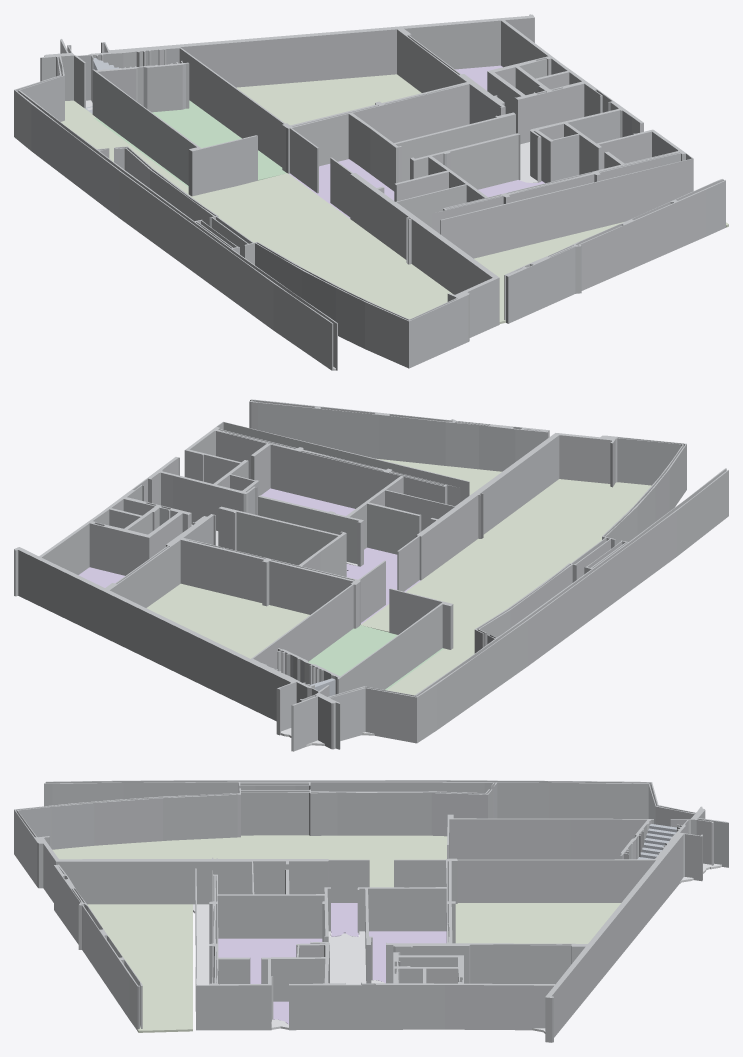
The model's file is BlocoB.glb.
3 renders of one model, top to bottom at view 1: azimuth 30°, elevation 25°; view 2: azimuth 150°, elevation 25°; view 3: azimuth 270°, elevation 25°, orthographic. The views are drawn at different scales.
Parts seen in each view (by area): view 1: B0 — Paredes, B0 — Área coberta / acesso, B0 — Jardim, B0 — Laboratório Maker, B0 — Recepção; view 2: B0 — Paredes, B0 — Área coberta / acesso, B0 — Jardim, B0 — Laboratório Maker, B0 — Recepção, B0 — Secretaria; view 3: B0 — Paredes, B0 — Jardim, B0 — Área coberta / acesso, B0 — Circulação, B0 — Secretaria, B0 — Atendimento à Empresa, B0 — Recepção, B — Escada 5.
Boxes of the visible parts, left/top/right/bottom form: B0 — Paredes: left=14, top=14, right=725, bottom=370; B0 — Área coberta / acesso: left=61, top=100, right=453, bottom=318; B0 — Jardim: left=236, top=74, right=728, bottom=323; B0 — Laboratório Maker: left=94, top=100, right=286, bottom=187; B0 — Recepção: left=289, top=159, right=394, bottom=218; B0 — Paredes: left=14, top=399, right=728, bottom=751; B0 — Área coberta / acesso: left=360, top=479, right=651, bottom=695; B0 — Jardim: left=146, top=458, right=501, bottom=658; B0 — Laboratório Maker: left=308, top=625, right=443, bottom=690; B0 — Recepção: left=346, top=547, right=420, bottom=624; B0 — Secretaria: left=261, top=488, right=354, bottom=515; B0 — Paredes: left=14, top=780, right=728, bottom=1042; B0 — Jardim: left=87, top=903, right=620, bottom=1032; B0 — Área coberta / acesso: left=52, top=835, right=447, bottom=887; B0 — Circulação: left=193, top=863, right=721, bottom=1033; B0 — Secretaria: left=218, top=938, right=322, bottom=983; B0 — Atendimento à Empresa: left=369, top=931, right=446, bottom=983; B0 — Recepção: left=331, top=903, right=358, bottom=936; B — Escada 5: left=637, top=824, right=676, bottom=859.
Size of the model in its own units: 272 by 26.1 by 378.
